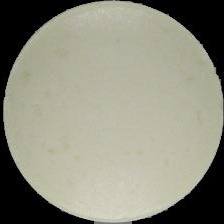45865-426: (0, 0, 224, 224)
